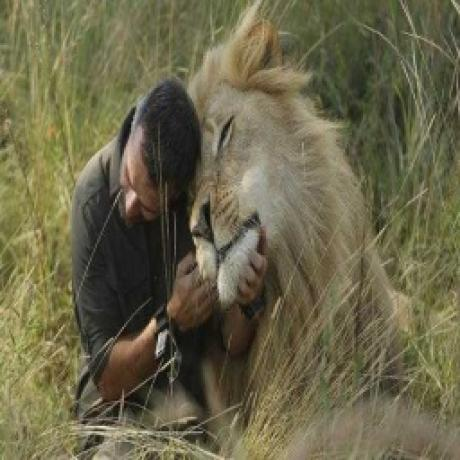Lion: (190, 0, 450, 417)
